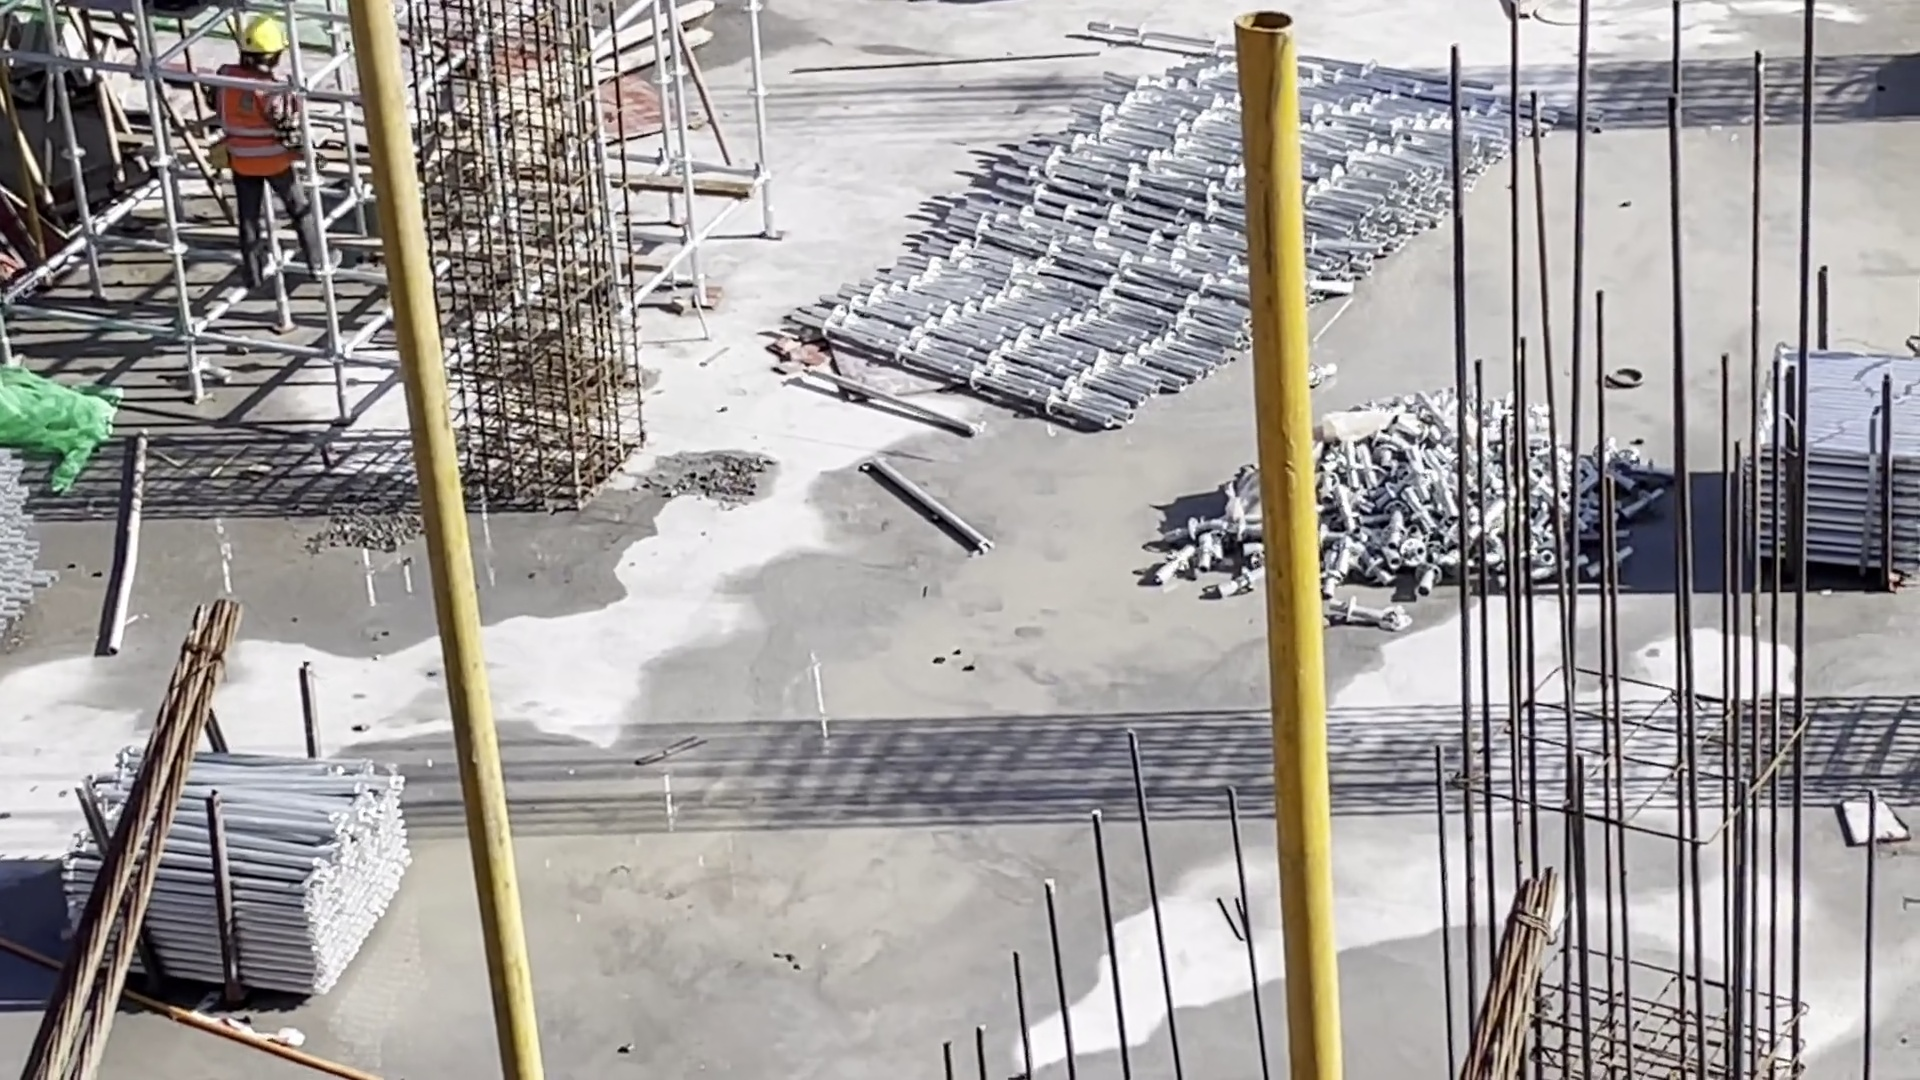helmet: (235, 19, 289, 61)
person: (201, 17, 343, 298)
scaffold: (783, 46, 1557, 434), (66, 738, 415, 997), (1755, 344, 1917, 583)
vest: (217, 58, 306, 184)
